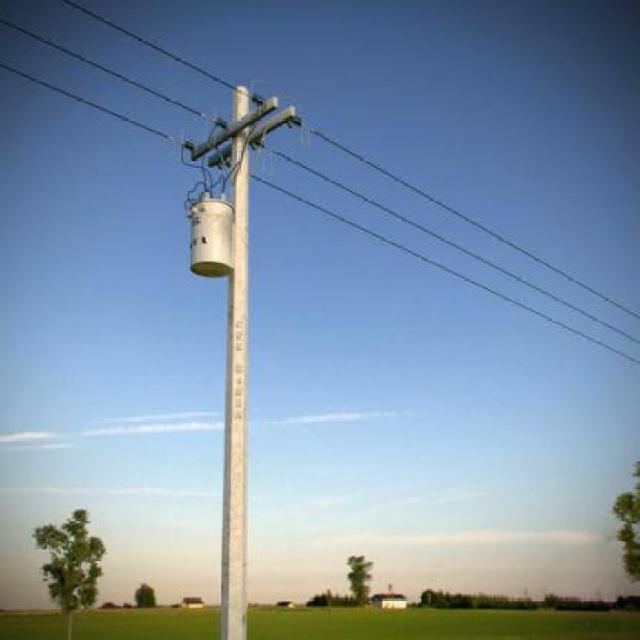pole: (172, 74, 310, 638)
